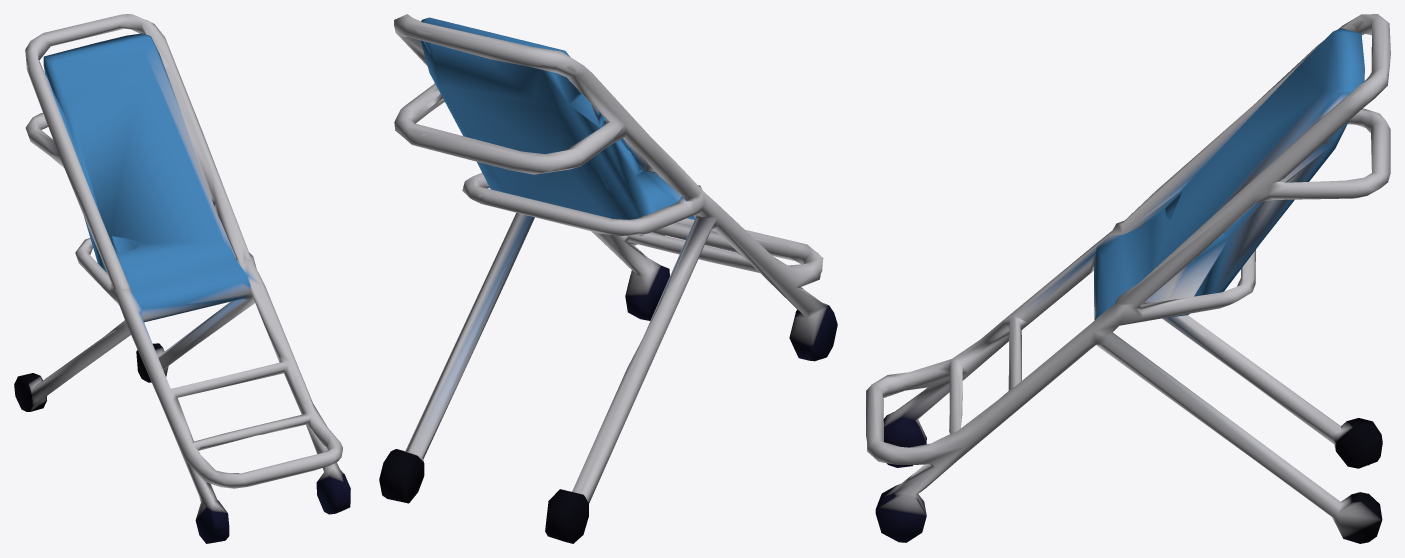
The model's file is gen3d-medical-stretcher-lod1.glb.
3 views of the same model, side by side, from view 1: azimuth 30°, elevation 25°; view 2: azimuth 150°, elevation 25°; view 3: azimuth 270°, elevation 25° (orthographic). The views are drawn at different scales.
Visible parts, largest first — view 1: part_0; view 2: part_0; view 3: part_0.
Part boxes in pixels (<box>): part_0: <box>14,14,350,543</box>; part_0: <box>379,14,837,543</box>; part_0: <box>866,14,1390,543</box>.
Bounding box in the file's own units: 0.3971 × 0.999 × 1.04.
